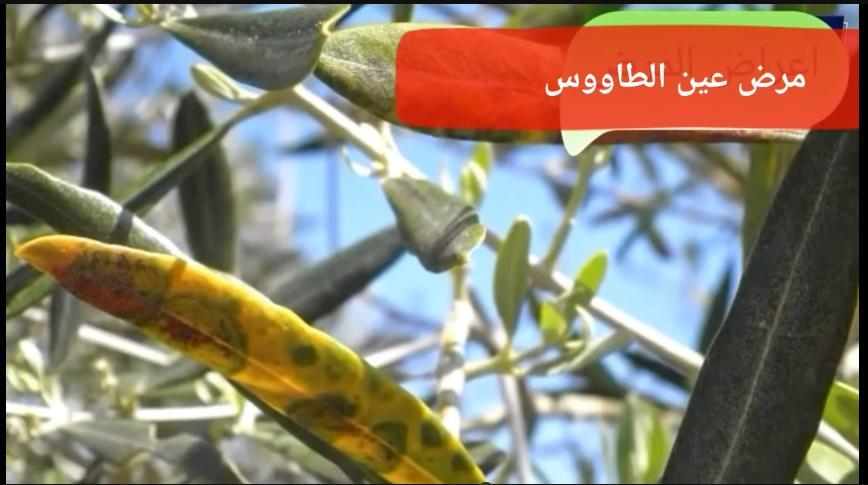OlivePeacockSpot: (13, 235, 479, 482), (321, 25, 394, 114)
